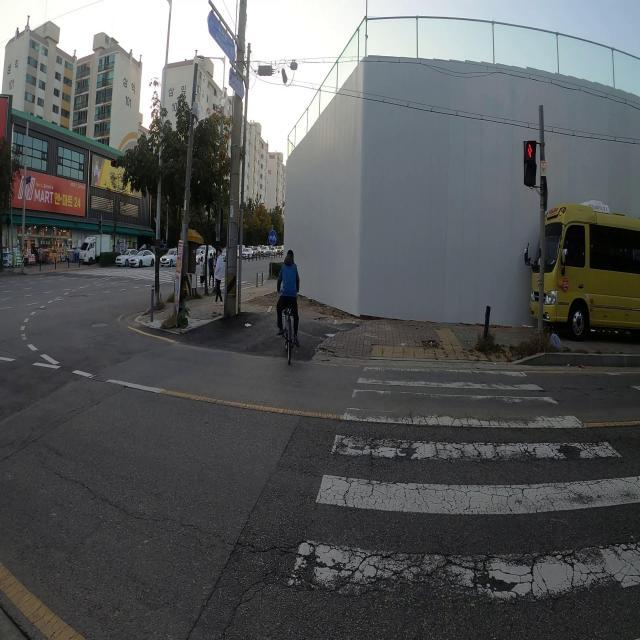crosswalk: (274, 365, 640, 640), (62, 267, 256, 292)
